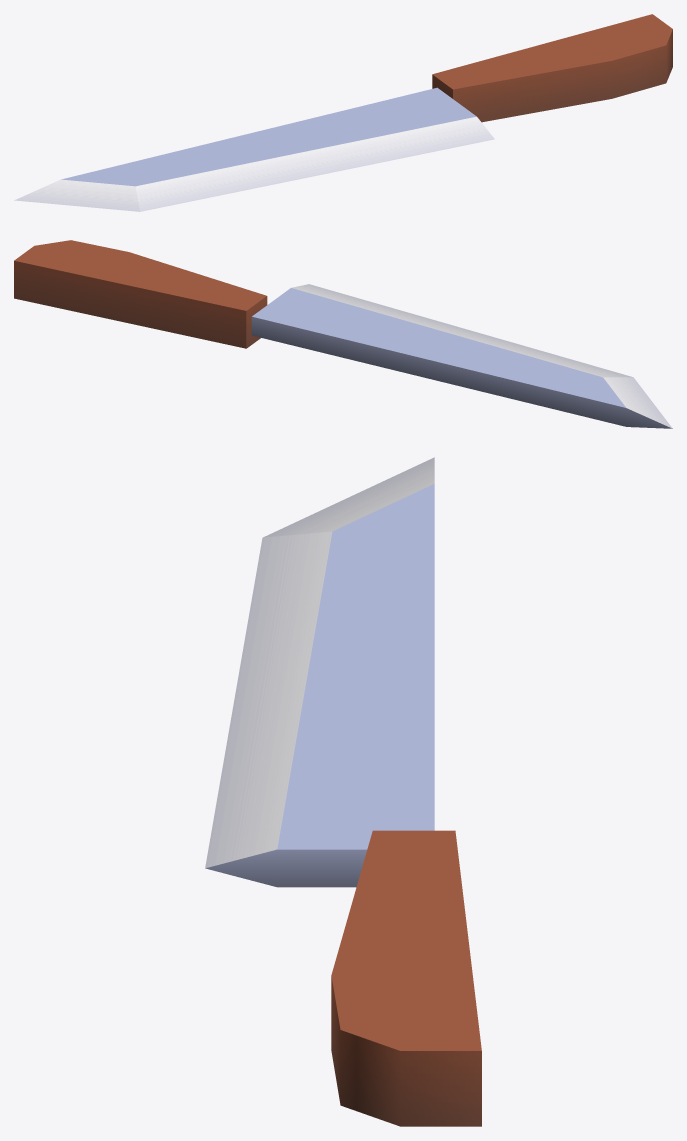
File: cc0-cooking-knife-lod0.glb
3 views of the same model, one above another, from view 1: azimuth 30°, elevation 25°; view 2: azimuth 150°, elevation 25°; view 3: azimuth 270°, elevation 25° (orthographic). The views are drawn at different scales.
Parts seen in each view (by area): view 1: part_0; view 2: part_0; view 3: part_0.
Boxes of the visible parts, <box> form: part_0: <box>14,14,672,211</box>; part_0: <box>14,240,672,428</box>; part_0: <box>205,457,481,1126</box>.
Size of the model in its own units: 0.7162 by 0.04 by 0.1327.
1 material, 1 textured.
